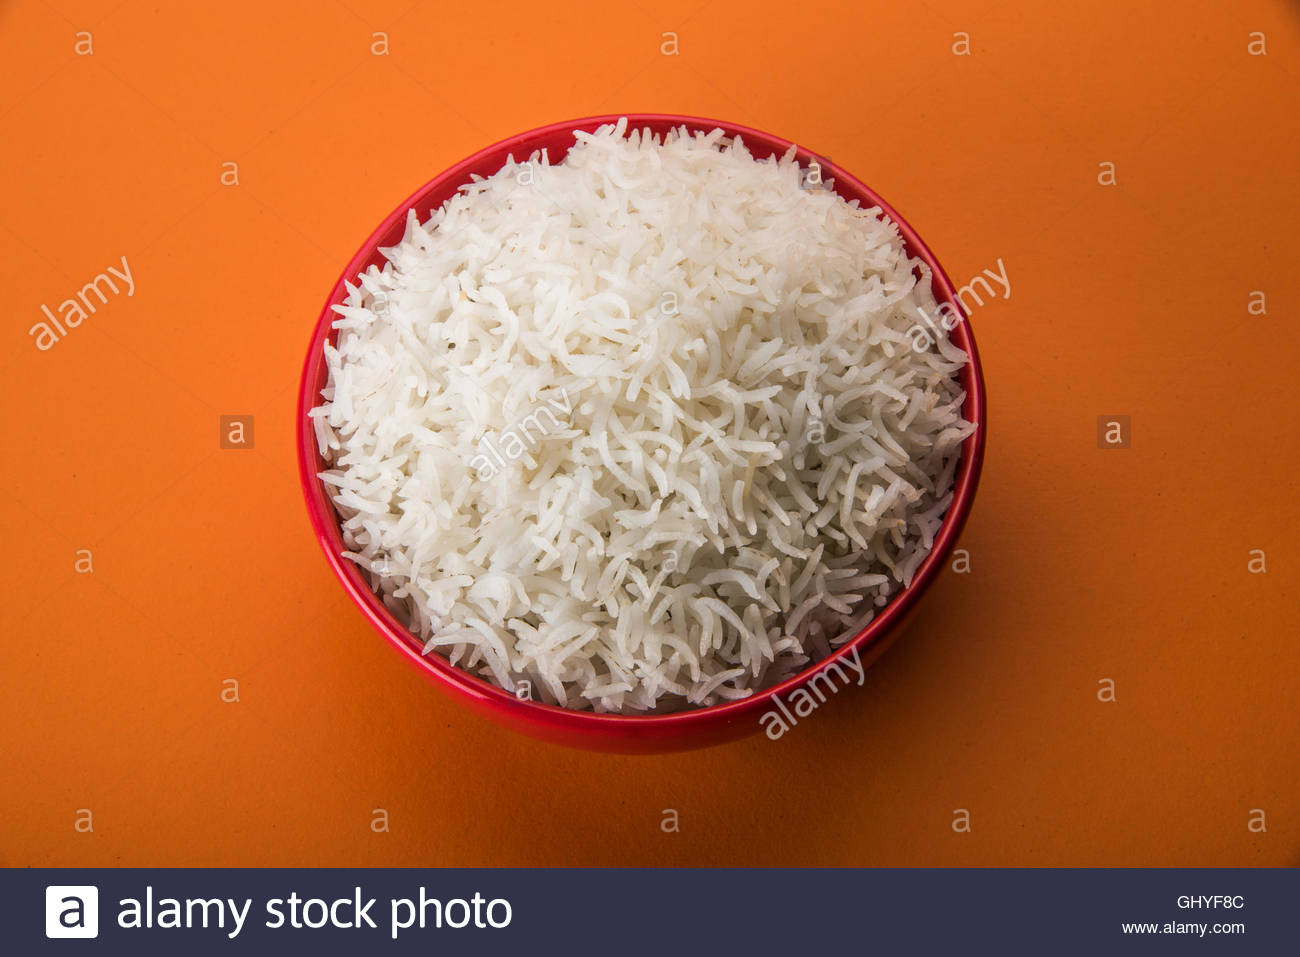plain rice: (359, 182, 913, 661)
